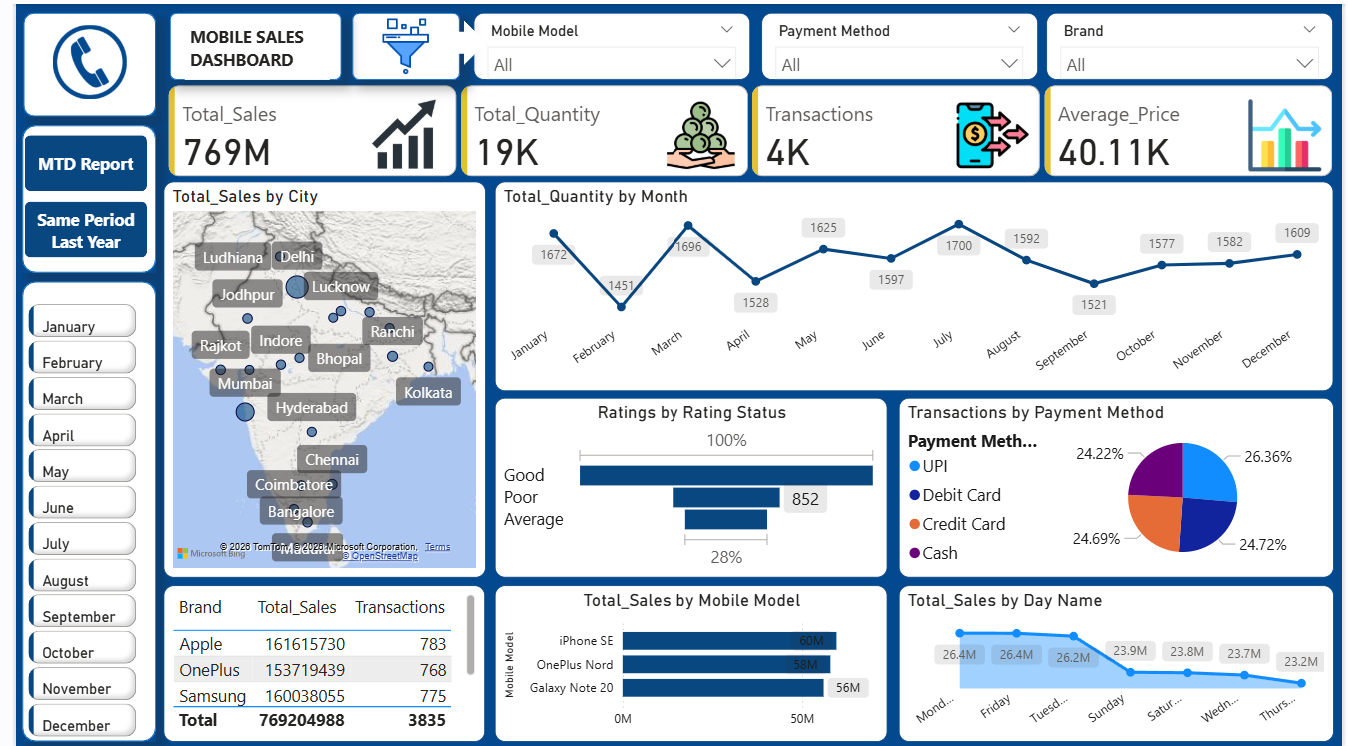

What the dashboard file says about the page in this screenshot:
{"tool":"powerbi","page":{"name":"Dashboard","canvas":[1280,720],"ordinal":0},"visuals":[{"type":"shape","box":[7.2,8.4,127.9,100.1],"z":0},{"type":"image","box":[15.7,15.7,111,80.8],"z":1000},{"type":"shape","box":[6,117,129.1,142.4],"z":2000},{"type":"shape","box":[6,267.8,129.1,444],"z":3000},{"type":"advancedSlicerVisual","fields":{"Values":["Custom_Calendar.Date.Variation.Date Hierarchy.Month"]},"box":[7.2,284.7,114.6,435.5],"z":4000},{"type":"cardVisual","fields":{"Data":["Sales_Data.Total_Sales","Sales_Data.Total_Quantity","Sales_Data.Transactions","Sales_Data.Average_Price"]},"box":[142.8,73.6,1136.9,98.1],"z":5000},{"type":"slicer","fields":{"Values":["Sales_Data.Mobile Model"]},"box":[441.5,8.7,268.4,64.9],"z":6000},{"type":"slicer","fields":{"Values":["Sales_Data.Brand"]},"box":[995.5,8.7,277,64.9],"z":7000},{"type":"slicer","fields":{"Values":["Sales_Data.Payment Method"]},"box":[719.9,8.7,266.9,64.9],"z":8000},{"type":"shape","box":[324.6,8.7,103.9,64.9],"z":9000},{"type":"image","box":[324.6,8.7,103.9,64.9],"z":10000},{"type":"shape","box":[408.3,15.9,46.2,43.3],"z":11000},{"type":"shape","box":[148.6,8.7,165.9,64.9],"z":12000},{"type":"textbox","box":[163,15.9,139.9,57.7],"z":13000},{"type":"map","fields":{"Category":["Sales_Data.City"],"Size":["Sales_Data.Total_Sales"]},"box":[142.4,171.3,311.3,382.4],"z":14000},{"type":"lineChart","fields":{"Category":["Custom_Calendar.Date.Variation.Date Hierarchy.Month"],"Y":["Sales_Data.Total_Quantity"]},"box":[462.1,171.3,810.7,202.7],"z":15000},{"type":"funnel","title":" Ratings by Rating Status","fields":{"Y":["CountNonNull(Sales_Data.Customer Ratings)"],"Category":["Sales_Data.Rating Status"]},"box":[462.1,380,380,173.7],"z":16000},{"type":"pieChart","fields":{"Category":["Sales_Data.Payment Method"],"Y":["Sales_Data.Transactions"]},"box":[853,380,419.8,173.7],"z":17000},{"type":"clusteredBarChart","fields":{"Y":["Sales_Data.Total_Sales"],"Category":["Sales_Data.Mobile Model"]},"box":[462.1,561,380,150.8],"z":18000},{"type":"areaChart","fields":{"Y":["Sales_Data.Total_Sales"],"Category":["Custom_Calendar.Day Name"]},"box":[853,561,419.8,150.8],"z":19000},{"type":"tableEx","fields":{"Values":["Sales_Data.Brand","Sales_Data.Total_Sales","Sales_Data.Transactions"]},"box":[142.4,561,310.1,150.8],"z":20000},{"type":"pageNavigator","box":[8.7,127,118.3,119.7],"z":20001}]}

Visuals, with their boxes in screenshot pixels (x1, y1, x2, y2), scaled from the page's 1280x720 canvas onto the 1348x746 screenshot:
shape: 8, 9, 142, 112
image: 17, 16, 133, 100
shape: 6, 121, 142, 269
shape: 6, 277, 142, 738
advancedSlicerVisual - Custom_Calendar.Date.Variation.Date Hierarchy.Month: 8, 295, 128, 745
cardVisual - Sales_Data.Total_Sales x Sales_Data.Total_Quantity: 150, 76, 1347, 178
slicer - Sales_Data.Mobile Model: 465, 9, 748, 76
slicer - Sales_Data.Brand: 1048, 9, 1340, 76
slicer - Sales_Data.Payment Method: 758, 9, 1039, 76
shape: 342, 9, 451, 76
image: 342, 9, 451, 76
shape: 430, 16, 479, 61
shape: 156, 9, 331, 76
textbox: 172, 16, 319, 76
map - Sales_Data.City x Sales_Data.Total_Sales: 150, 177, 478, 574
lineChart - Custom_Calendar.Date.Variation.Date Hierarchy.Month x Sales_Data.Total_Quantity: 487, 177, 1340, 388
" Ratings by Rating Status" funnel: 487, 394, 887, 574
pieChart - Sales_Data.Payment Method x Sales_Data.Transactions: 898, 394, 1340, 574
clusteredBarChart - Sales_Data.Total_Sales x Sales_Data.Mobile Model: 487, 581, 887, 738
areaChart - Sales_Data.Total_Sales x Custom_Calendar.Day Name: 898, 581, 1340, 738
tableEx - Sales_Data.Brand x Sales_Data.Total_Sales: 150, 581, 477, 738
pageNavigator: 9, 132, 134, 256
